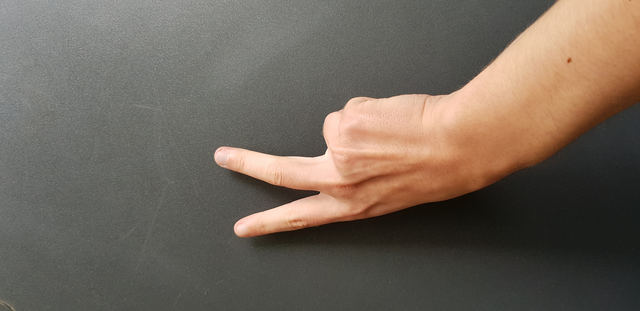Scissors: (197, 78, 510, 246)
